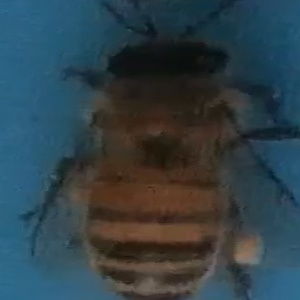bee: (20, 6, 300, 300)
